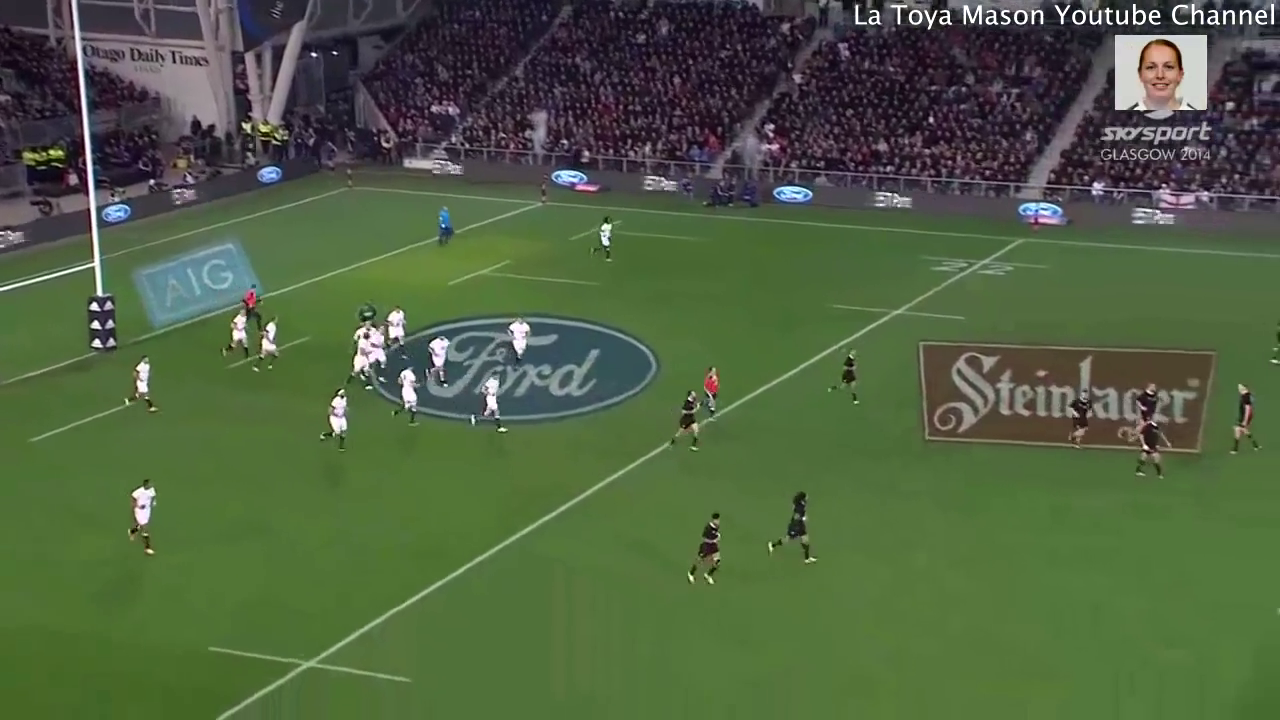player: (765, 480, 825, 567), (675, 506, 733, 591), (1125, 411, 1179, 498), (1215, 372, 1265, 462), (306, 381, 361, 458), (819, 340, 874, 416), (468, 361, 517, 444), (121, 344, 167, 420), (122, 472, 160, 559), (662, 385, 704, 458), (384, 358, 422, 431), (420, 328, 458, 395), (691, 363, 731, 426), (1057, 384, 1093, 451), (216, 303, 252, 366), (378, 300, 415, 361), (249, 308, 283, 372), (344, 327, 376, 394), (585, 212, 620, 271), (502, 308, 533, 373), (1129, 372, 1161, 427), (428, 199, 460, 252), (236, 278, 267, 328), (360, 315, 384, 361), (353, 296, 380, 322)
